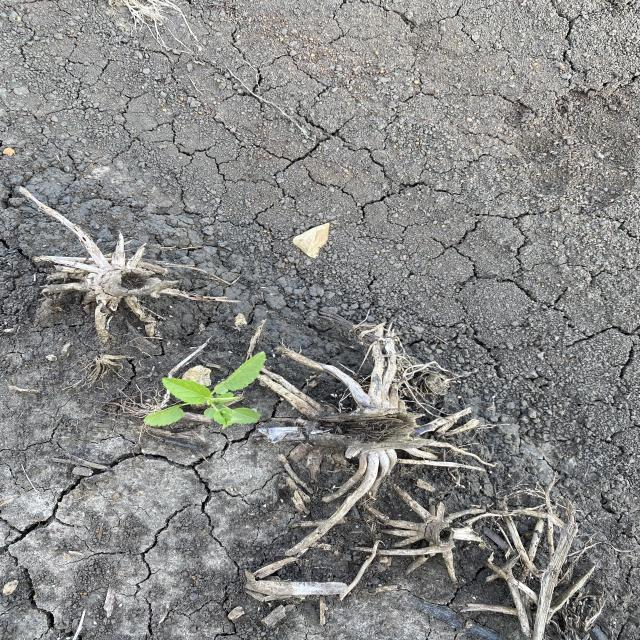PricklySida: (142, 350, 270, 431)
